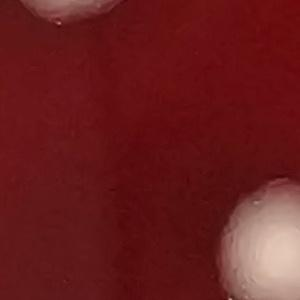colony: (210, 175, 300, 300), (7, 0, 136, 47)
